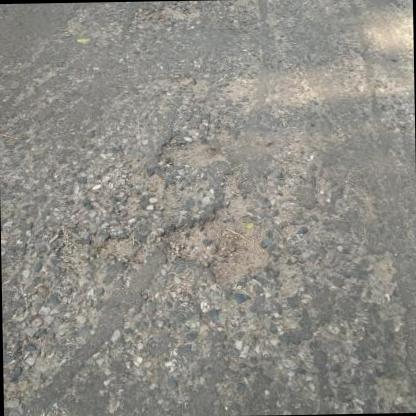pothole: (155, 192, 270, 286), (155, 136, 226, 172), (95, 233, 136, 260)
